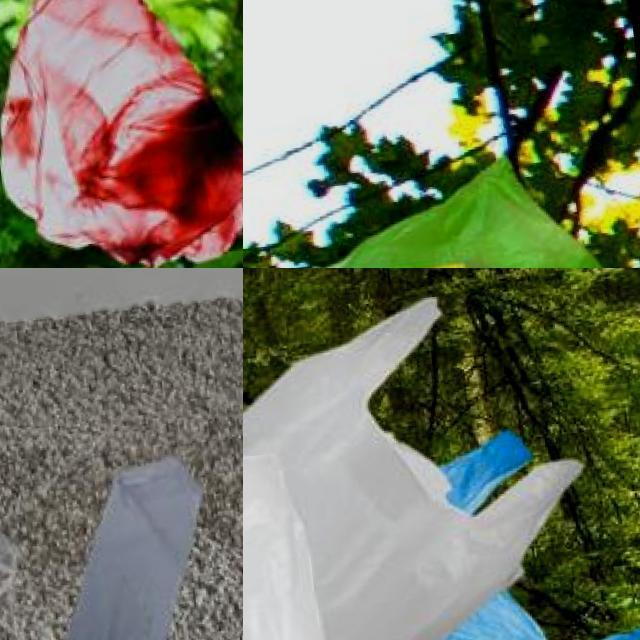waste: (243, 285, 613, 640), (269, 420, 640, 640), (346, 139, 637, 268), (38, 449, 215, 640)
